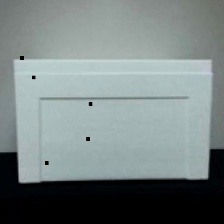foam_box: (6, 51, 218, 188)
